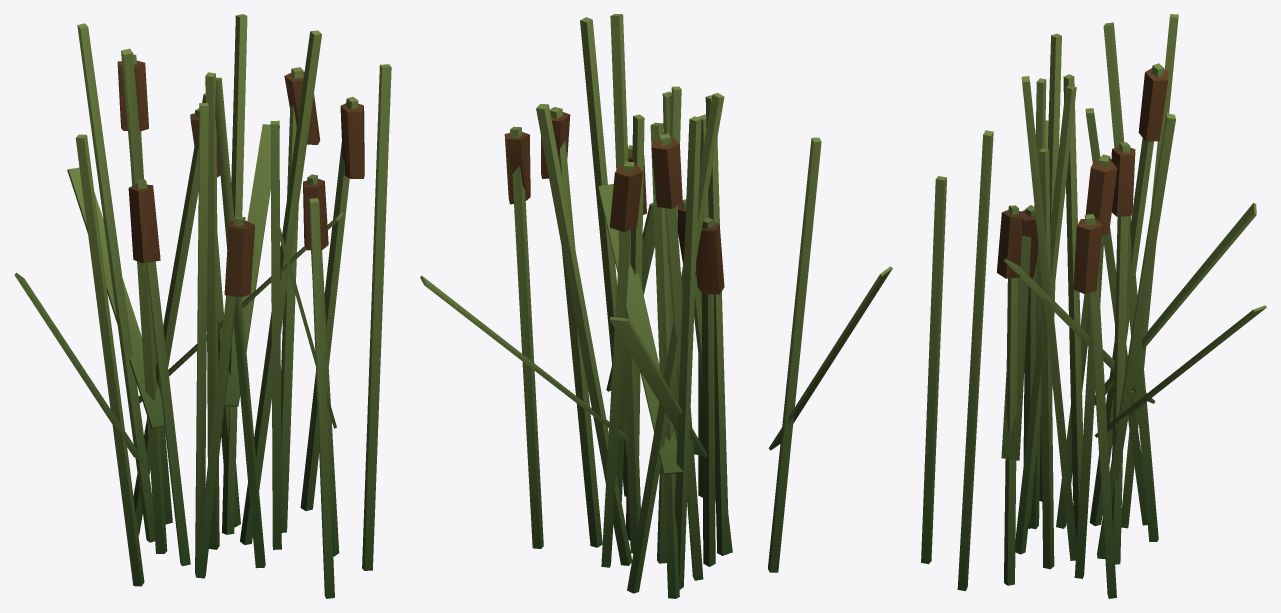
The model's file is trzcina_3.glb.
The picture shows the model from 3 angles, left to right: view 1: azimuth 30°, elevation 25°; view 2: azimuth 150°, elevation 25°; view 3: azimuth 270°, elevation 25°; orthographic projection. The views are drawn at different scales.
Parts seen in each view (by area): view 1: trzcina_3; view 2: trzcina_3; view 3: trzcina_3.
Boxes of the visible parts, box(x1,y1,x2,y2) form: trzcina_3: box(14, 14, 391, 598); trzcina_3: box(420, 14, 892, 598); trzcina_3: box(921, 14, 1266, 598).
Bounding box in the file's own units: 1.08 × 1.46 × 0.9096.
